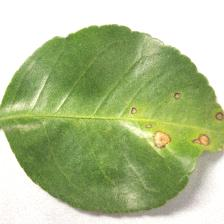greening: (116, 82, 223, 155)
